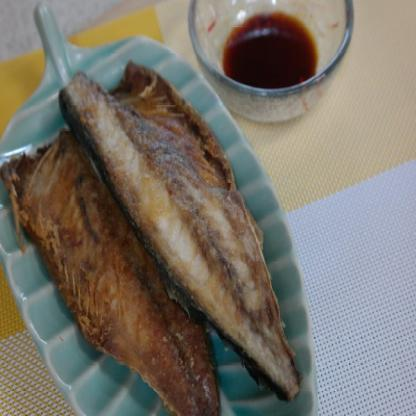Peixe: (0, 61, 300, 416)
